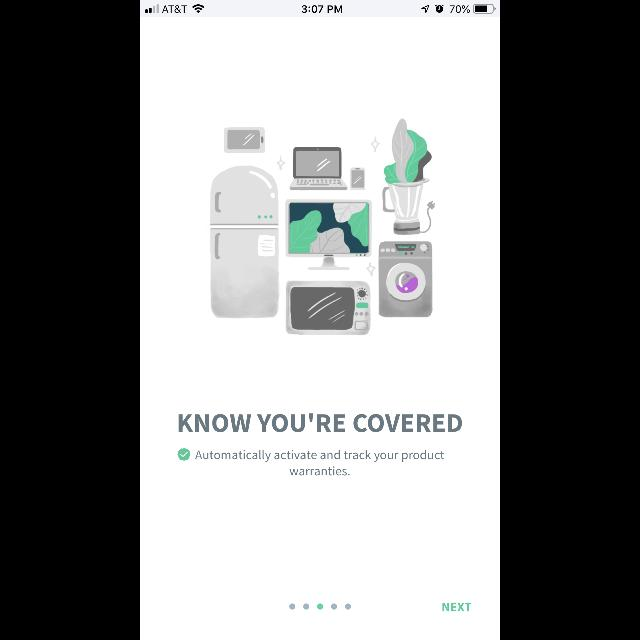icon: (178, 448, 190, 460)
image: (210, 118, 436, 336)
pageindicator: (289, 603, 351, 609)
text: (196, 450, 444, 476), (178, 413, 462, 432), (442, 602, 472, 612)
uppertaskbar: (140, 1, 500, 18)
